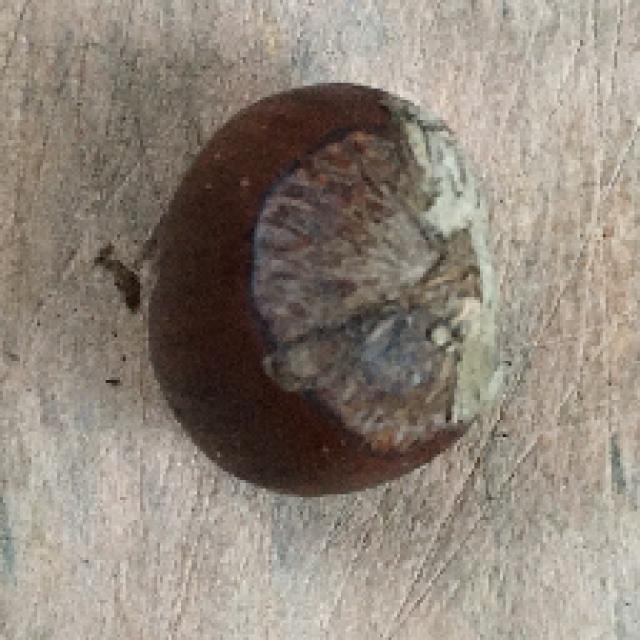damagedHazelnut: (147, 73, 495, 503)
